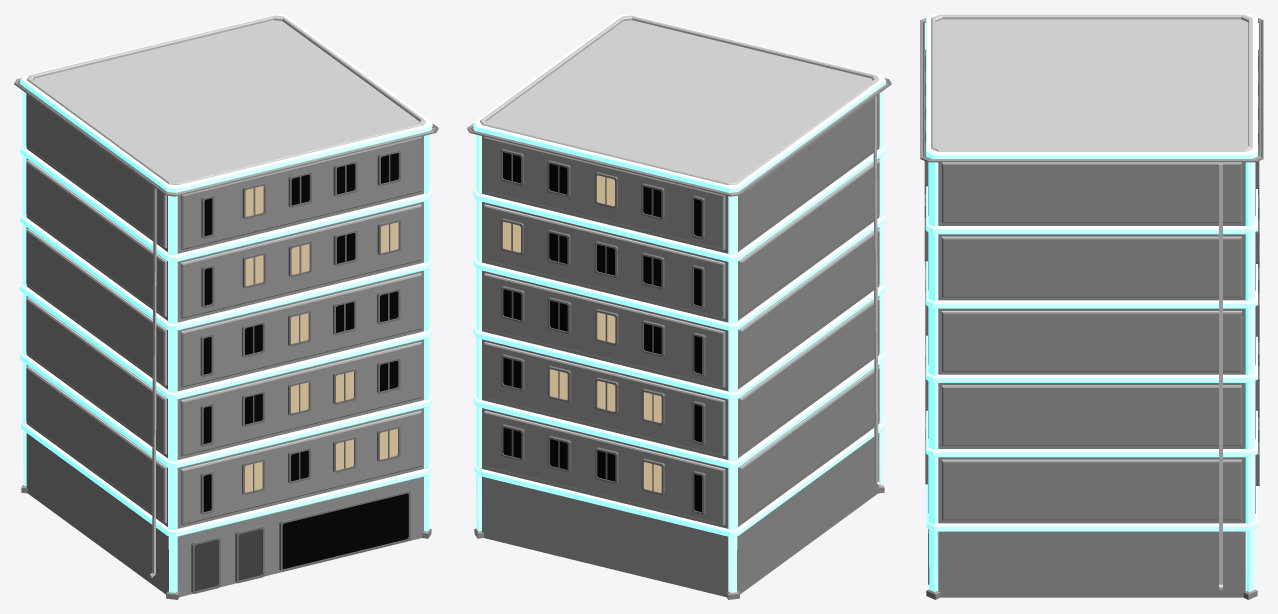
Rendered from Building_Medium_0_Size_3.fbx.
3 views of the same model, side by side, from view 1: azimuth 30°, elevation 25°; view 2: azimuth 150°, elevation 25°; view 3: azimuth 270°, elevation 25° (orthographic). The views are drawn at different scales.
Visible parts, largest first — view 1: Building_Medium_0_Size_3; view 2: Building_Medium_0_Size_3; view 3: Building_Medium_0_Size_3.
Boxes of the visible parts, x1,y1,x2,y2 form: Building_Medium_0_Size_3: (14,14,438,599); Building_Medium_0_Size_3: (467,14,891,599); Building_Medium_0_Size_3: (920,14,1263,599).
Size of the model in its own units: 1603 by 2306 by 1602.
